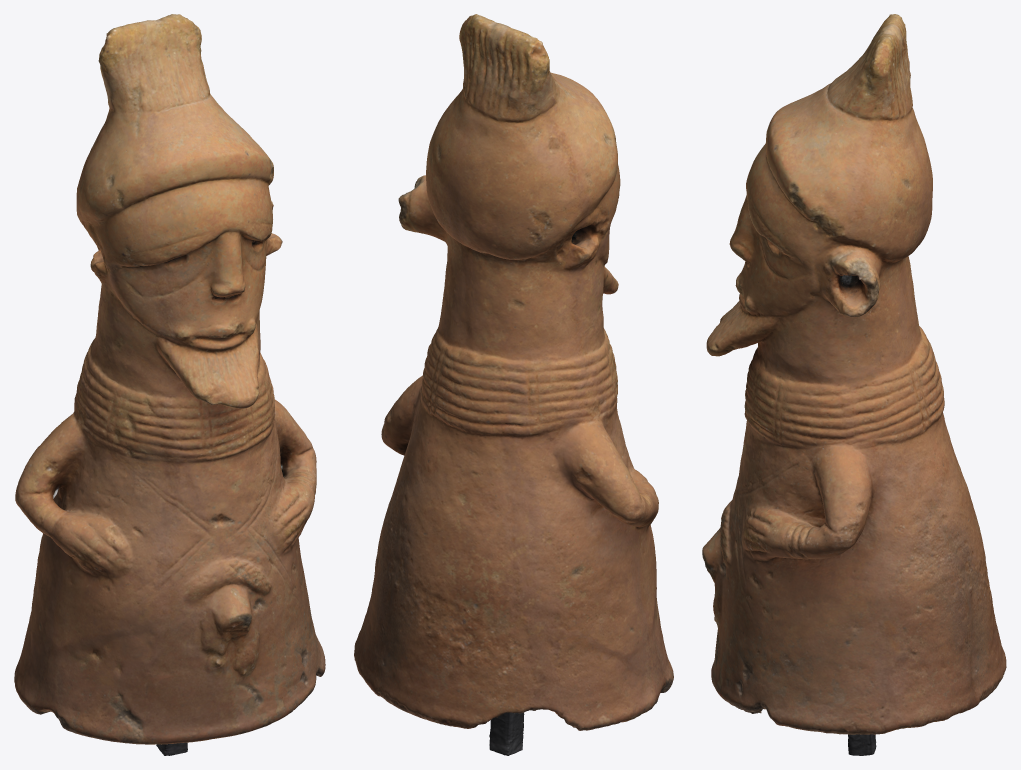
Rendered from sokoto.glb.
The picture shows the model from 3 angles, left to right: view 1: azimuth 30°, elevation 25°; view 2: azimuth 150°, elevation 25°; view 3: azimuth 270°, elevation 25°; orthographic projection. The views are drawn at different scales.
Visible parts, largest first — view 1: Object_2, Object_3; view 2: Object_2, Object_3; view 3: Object_3, Object_2.
Part boxes in pixels (x1,y1,x2,y2): Object_2: (14, 14, 263, 755); Object_3: (43, 14, 325, 755); Object_2: (354, 14, 673, 754); Object_3: (354, 15, 672, 755); Object_3: (702, 30, 978, 755); Object_2: (702, 14, 1006, 755).
Bounding box in the file's own units: 0.1975 × 0.493 × 0.1887.
Materials: 1 (1 with a texture image).
